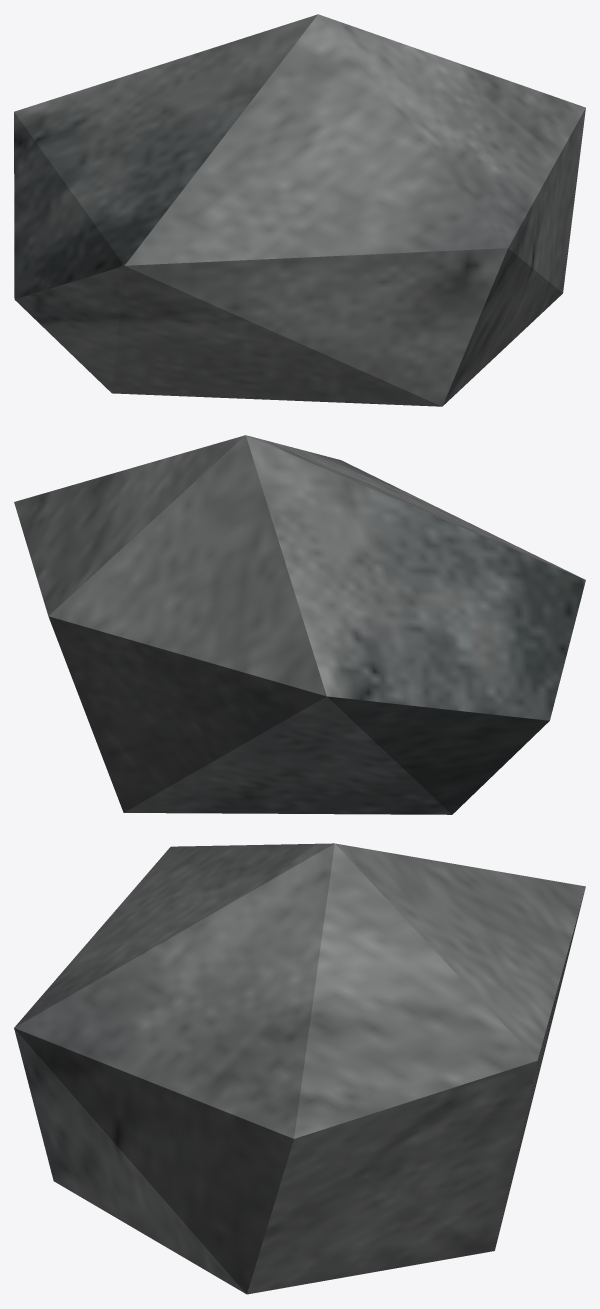
File: Large Rock.fbx
3 renders of one model, top to bottom at view 1: azimuth 30°, elevation 25°; view 2: azimuth 150°, elevation 25°; view 3: azimuth 270°, elevation 25°, orthographic. The views are drawn at different scales.
Visible parts, largest first — view 1: Large_Rock; view 2: Large_Rock; view 3: Large_Rock.
Boxes of the visible parts, box(x1,y1,x2,y2) form: Large_Rock: box(14, 14, 585, 406); Large_Rock: box(14, 435, 585, 814); Large_Rock: box(14, 843, 585, 1294).
Size of the model in its own units: 159 by 94.85 by 126.
